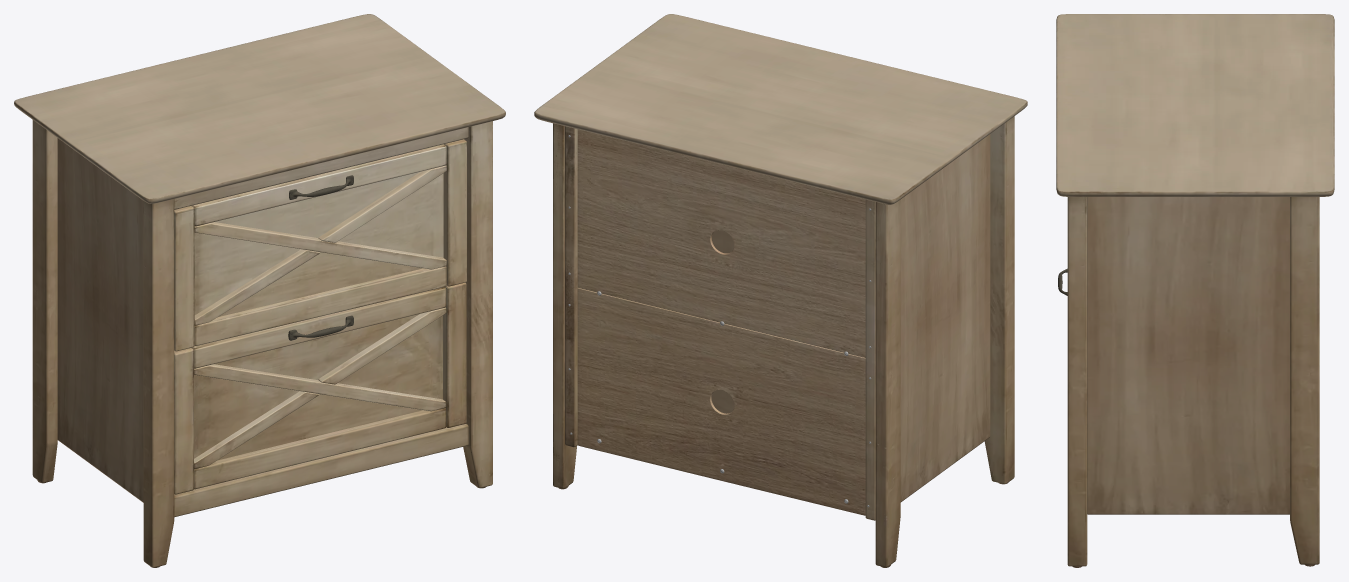
Rendered from abo-B082L1R2V6.glb.
3 renders of one model, left to right at view 1: azimuth 30°, elevation 25°; view 2: azimuth 150°, elevation 25°; view 3: azimuth 270°, elevation 25°, orthographic.
Size of the model in its own units: 0.763 by 0.762 by 0.503.
Materials: 1 (1 with a texture image).
